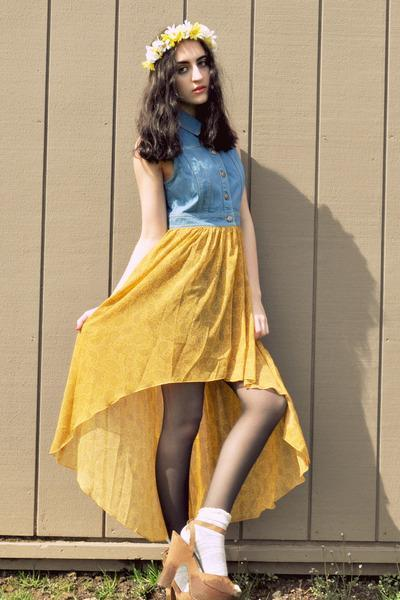hat: (146, 20, 215, 59)
shirt: (156, 116, 250, 228)
shoe: (157, 516, 241, 599)
skirt: (52, 225, 309, 539)
